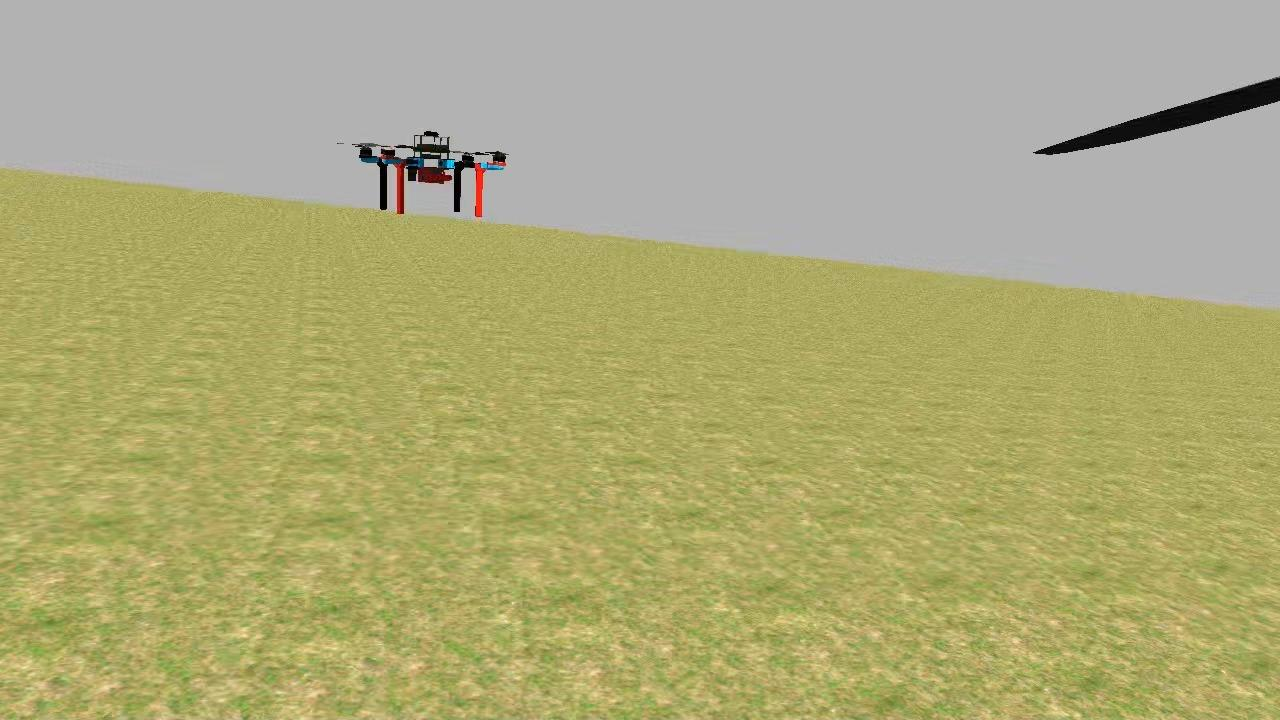UAV: (347, 122, 514, 226)
